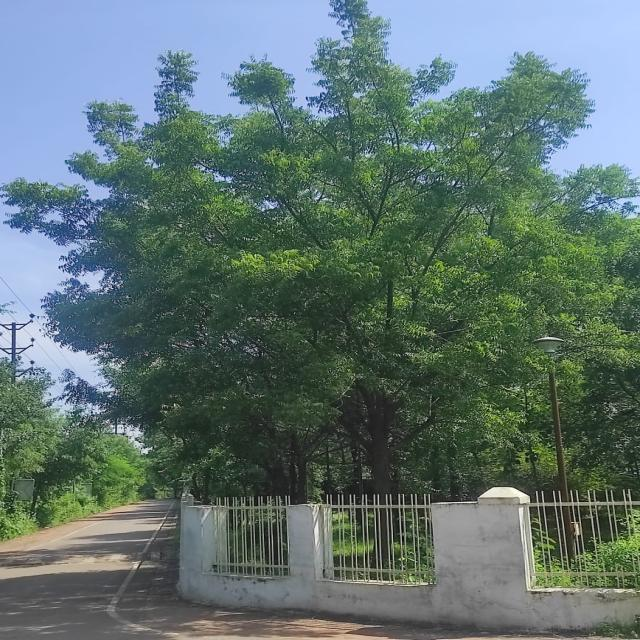Neem Tree: (73, 19, 624, 460)
